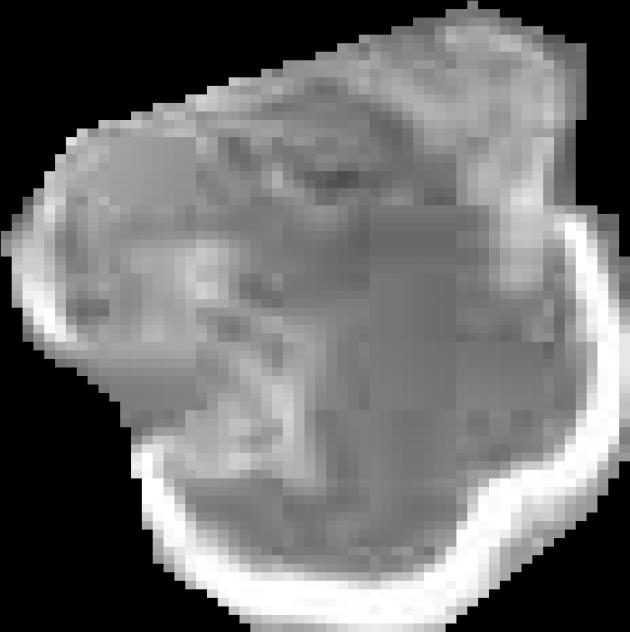tumor_good_chance: (1, 1, 630, 632)
